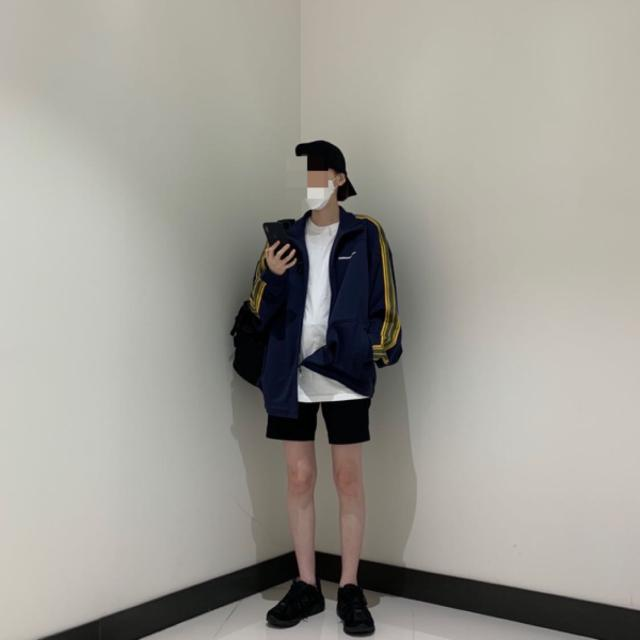jacket: (246, 198, 403, 422)
shortpants: (264, 395, 372, 444)
